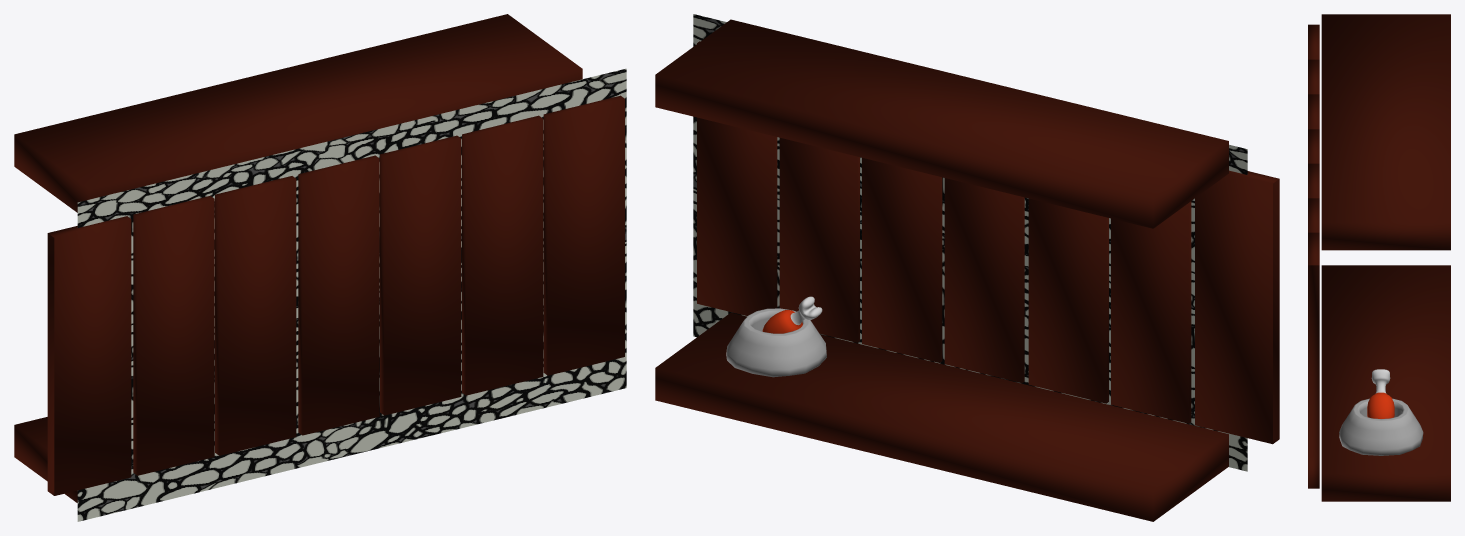
File: screen_10_04.obj
3 renders of one model, left to right at view 1: azimuth 30°, elevation 25°; view 2: azimuth 150°, elevation 25°; view 3: azimuth 270°, elevation 25°, orthographic. The views are drawn at different scales.
Visible parts, largest first — view 1: Cube.013_Cube.818, Ceiling.001_Cube.817, Backgrund.000_Plane.009, Floor.001_Cube.816; view 2: Cube.013_Cube.818, Ceiling.001_Cube.817, Floor.001_Cube.816, Backgrund.000_Plane.009, Plate.000_Cube.819, ChickenLeg_Cube.820; view 3: Ceiling.001_Cube.817, Floor.001_Cube.816, Cube.013_Cube.818, Plate.000_Cube.819, ChickenLeg_Cube.820.
Part boxes in pixels (x1,y1,x2,y2): Cube.013_Cube.818: (47,95,624,495); Ceiling.001_Cube.817: (14,14,582,212); Backgrund.000_Plane.009: (77,68,626,521); Floor.001_Cube.816: (14,417,77,502); Cube.013_Cube.818: (697,41,1279,444); Ceiling.001_Cube.817: (655,19,1228,228); Floor.001_Cube.816: (655,312,1228,521); Backgrund.000_Plane.009: (693,14,1247,471); Plate.000_Cube.819: (726,308,826,377); ChickenLeg_Cube.820: (762,296,822,333); Ceiling.001_Cube.817: (1321,14,1450,250); Floor.001_Cube.816: (1321,265,1450,501); Cube.013_Cube.818: (1308,24,1319,488); Plate.000_Cube.819: (1339,398,1423,455); ChickenLeg_Cube.820: (1367,369,1394,418).
Size of the model in its own units: 37.39 by 20.24 by 9.28.
Materials: 5 (1 with a texture image).
